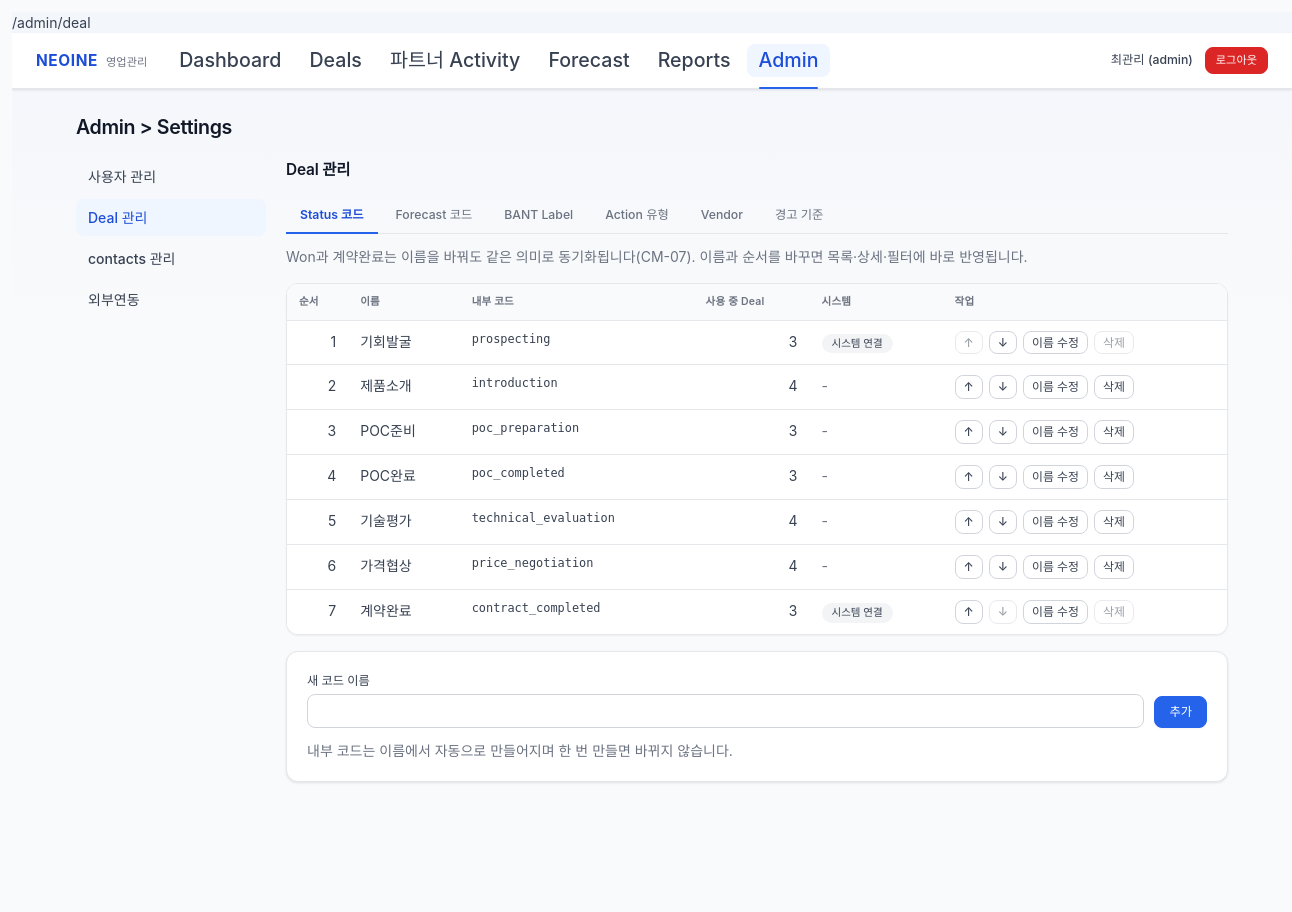
Test: Status 코드 이름 수정 (T-ADMIN-04) › lets the locked code be renamed as well
This screenshot has width=1292, height=912.
Expected: the row "1 기회발굴 prospecting 3 시스템 연결 ↑ ↓ 이름 수정 삭제" is shown, [287,321,1227,366]
Click the button "이름 수정" in the row of "contract_completed".
click(1055, 612)  # box [1023,600,1088,624]
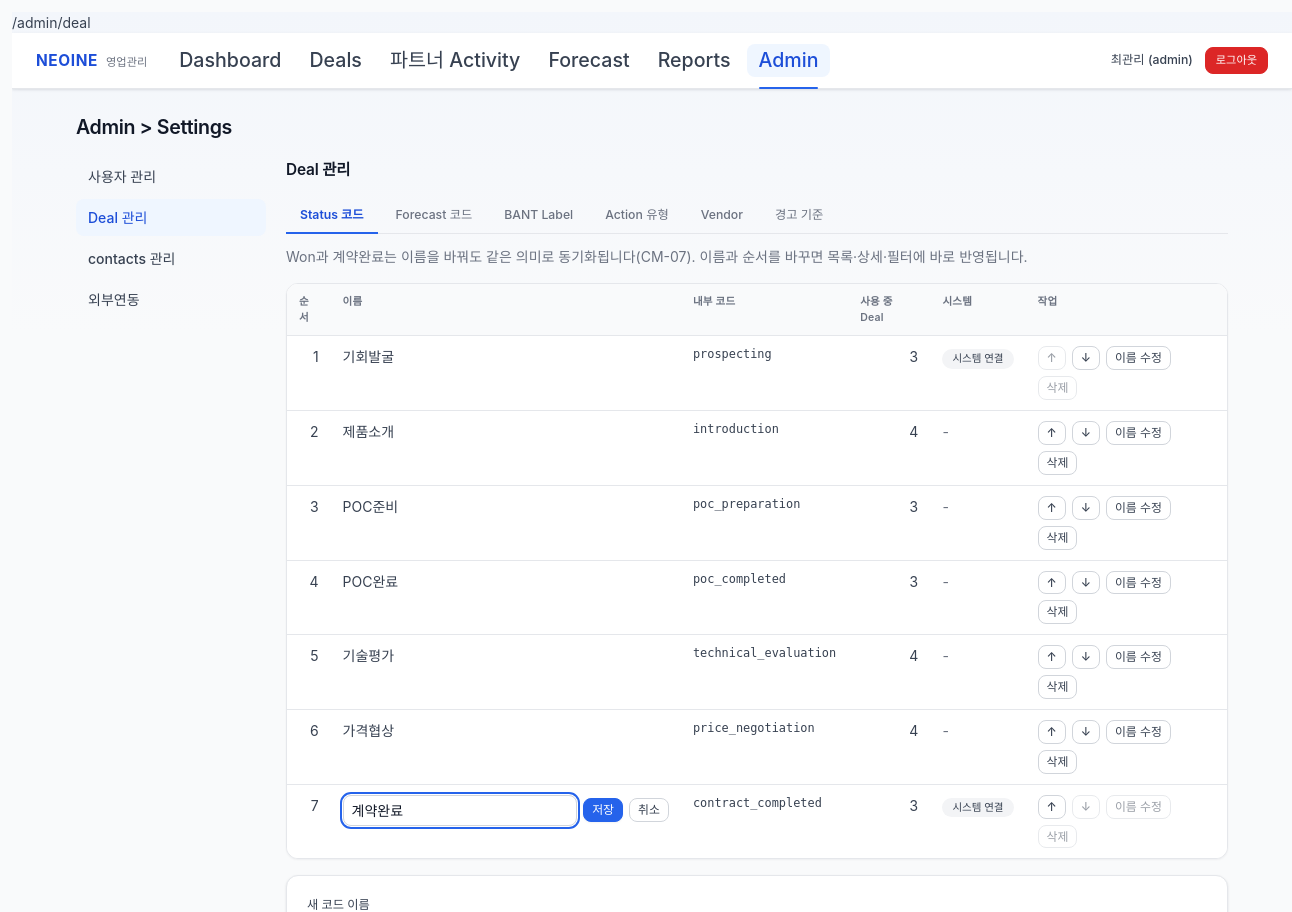
Replace the text in the field named "코드 이름" with "계약성사" at (460, 810), box [343,795,577,826]
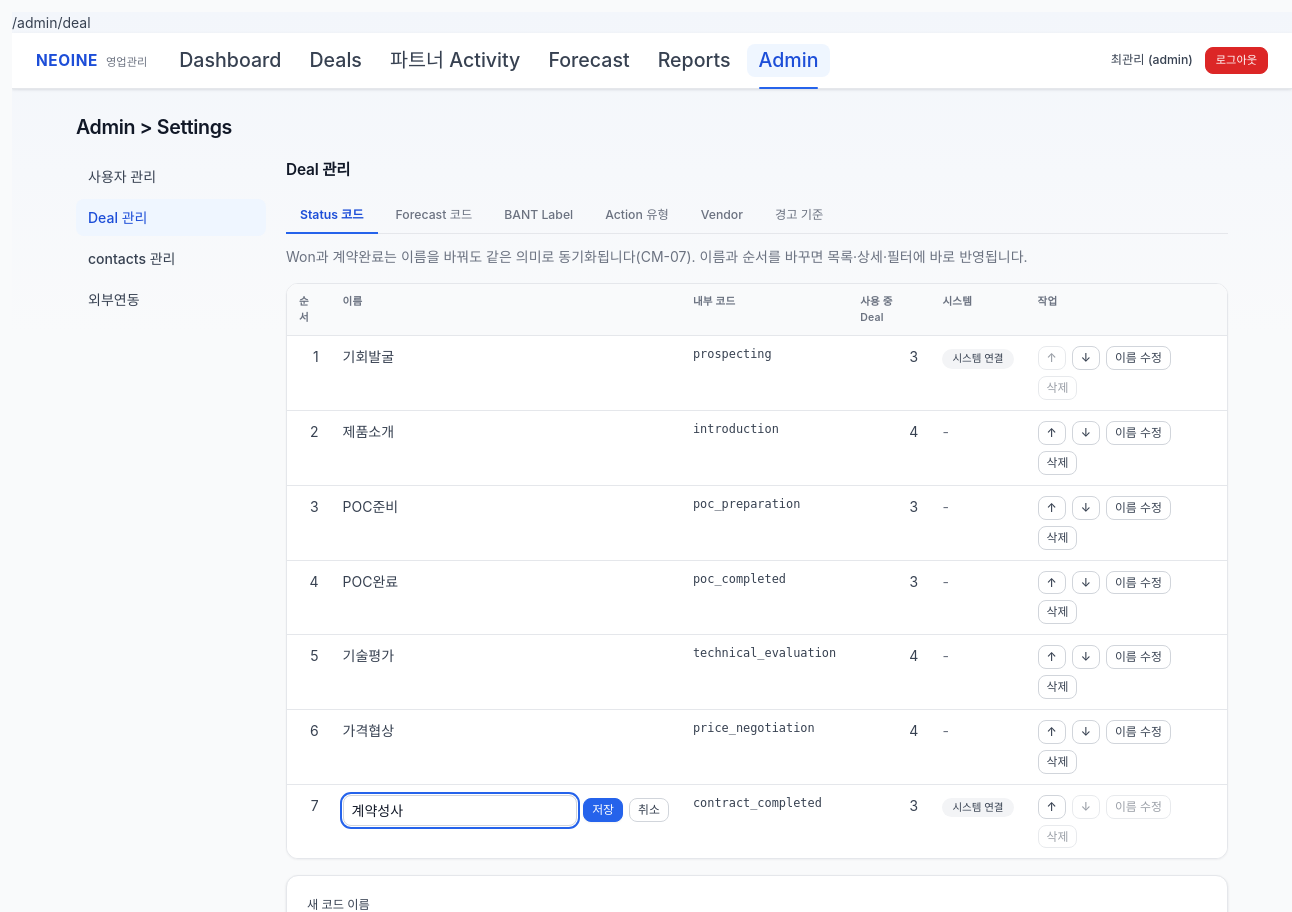
Press Enter
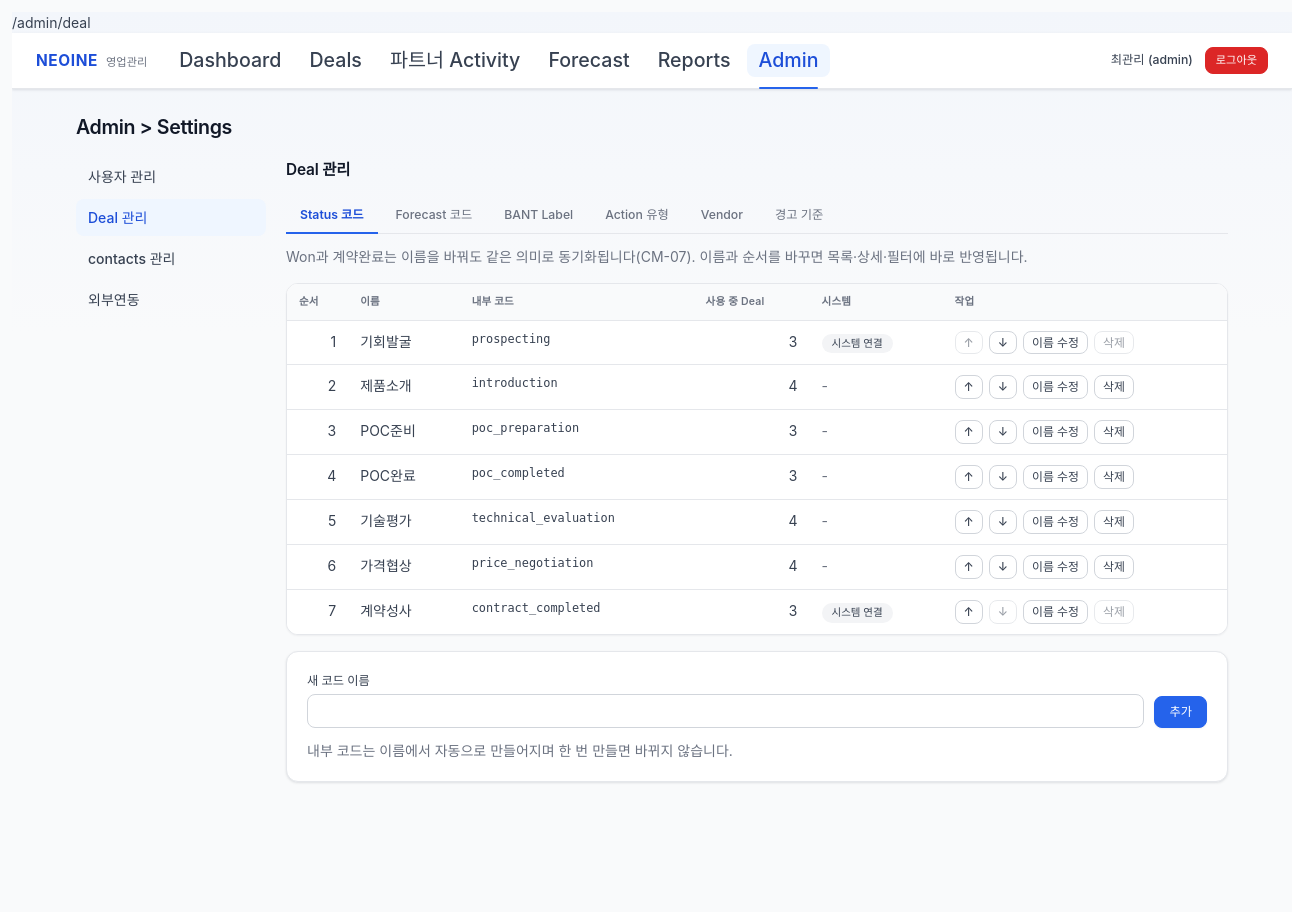
Expected: the text "contract_completed" is shown, [460,590,694,634]
Expected: the row "7 계약성사 contract_completed 3 시스템 연결 ↑ ↓ 이름 수정 삭제" is shown, [287,590,1227,634]
